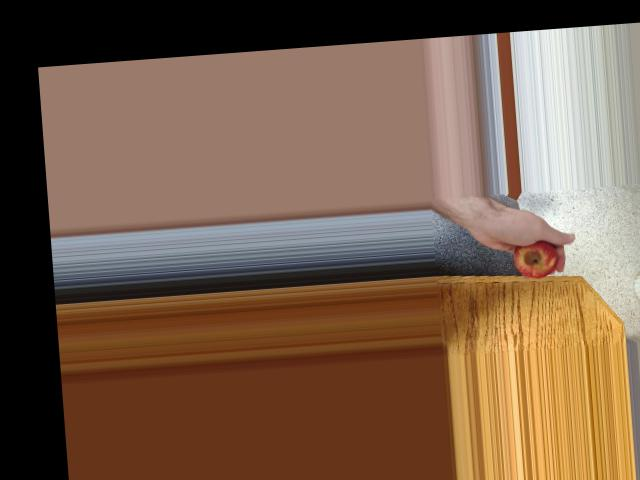apple: (509, 234, 562, 281)
